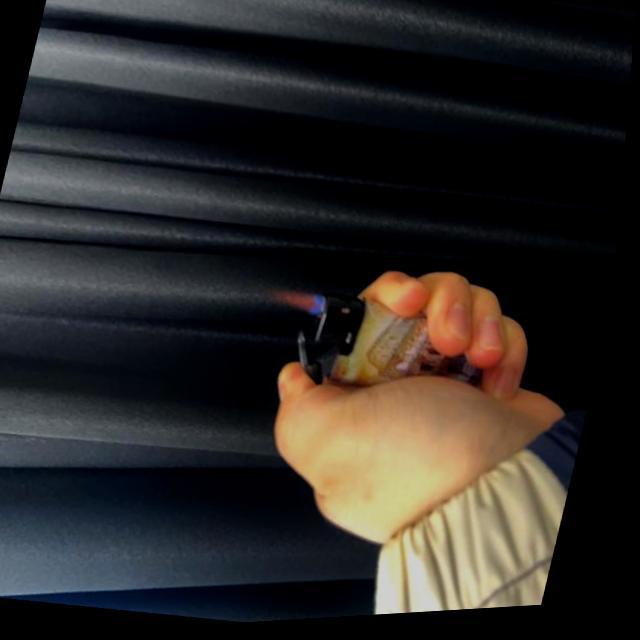Fire: (270, 285, 333, 322)
